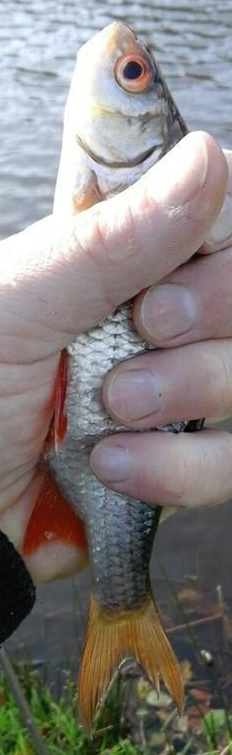Rutilus rutilus: (20, 20, 212, 735)
